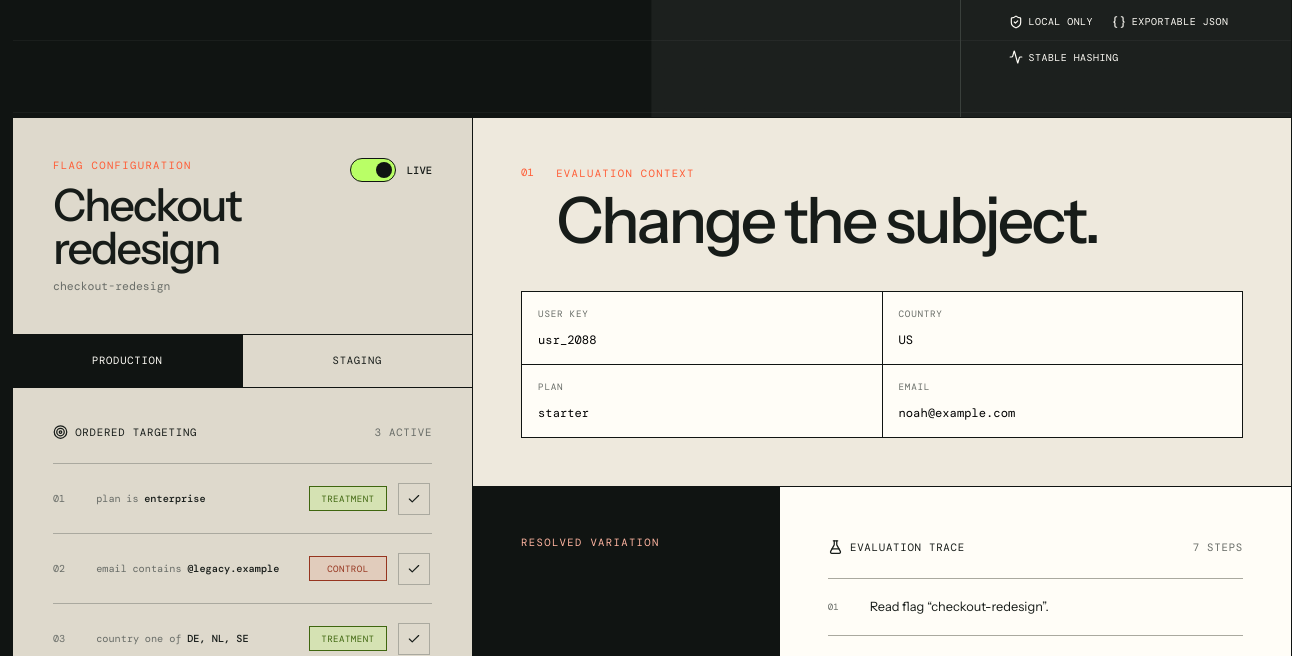
Scenario: ToggleBench workbench › switches environments and updates the rollout control
(page scrolled)
Step 1. Click the button "staging" → (357, 361), box [242, 335, 472, 387]
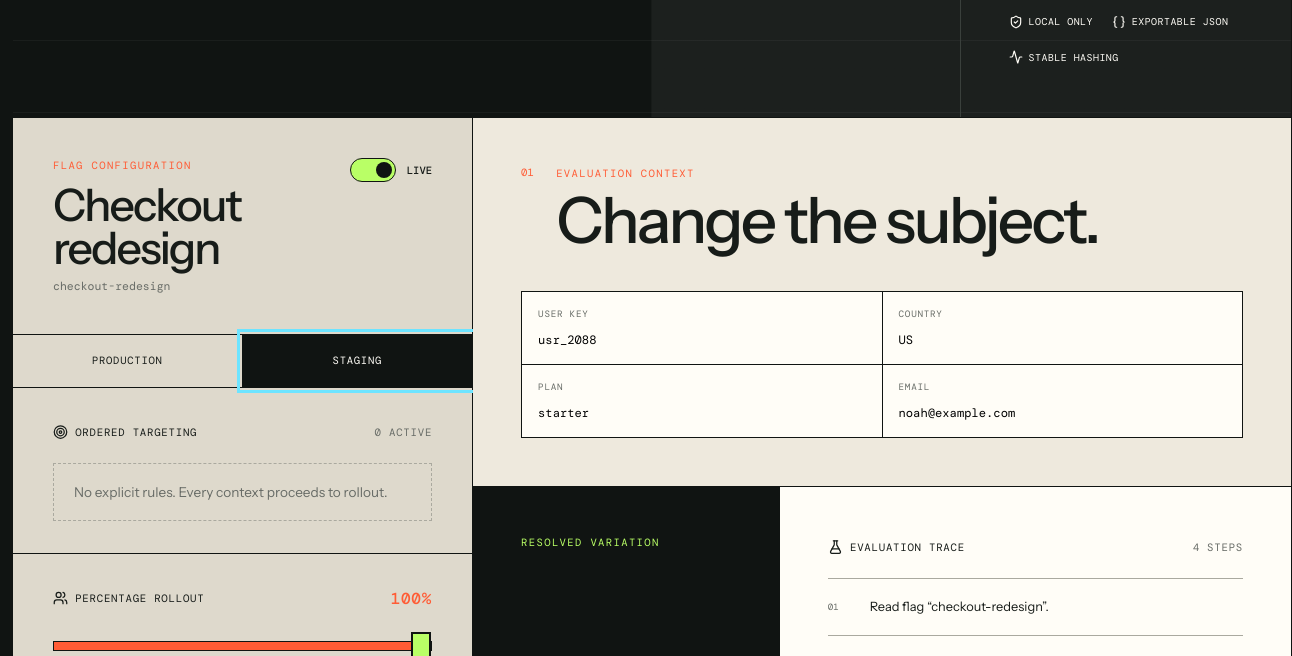
expect the slider named "Treatment rollout percentage" holds "100": met, box [53, 641, 432, 651]
expect the text "No explicit rules. Every context proceeds to rollout." is shown: met, box [53, 463, 432, 521]
